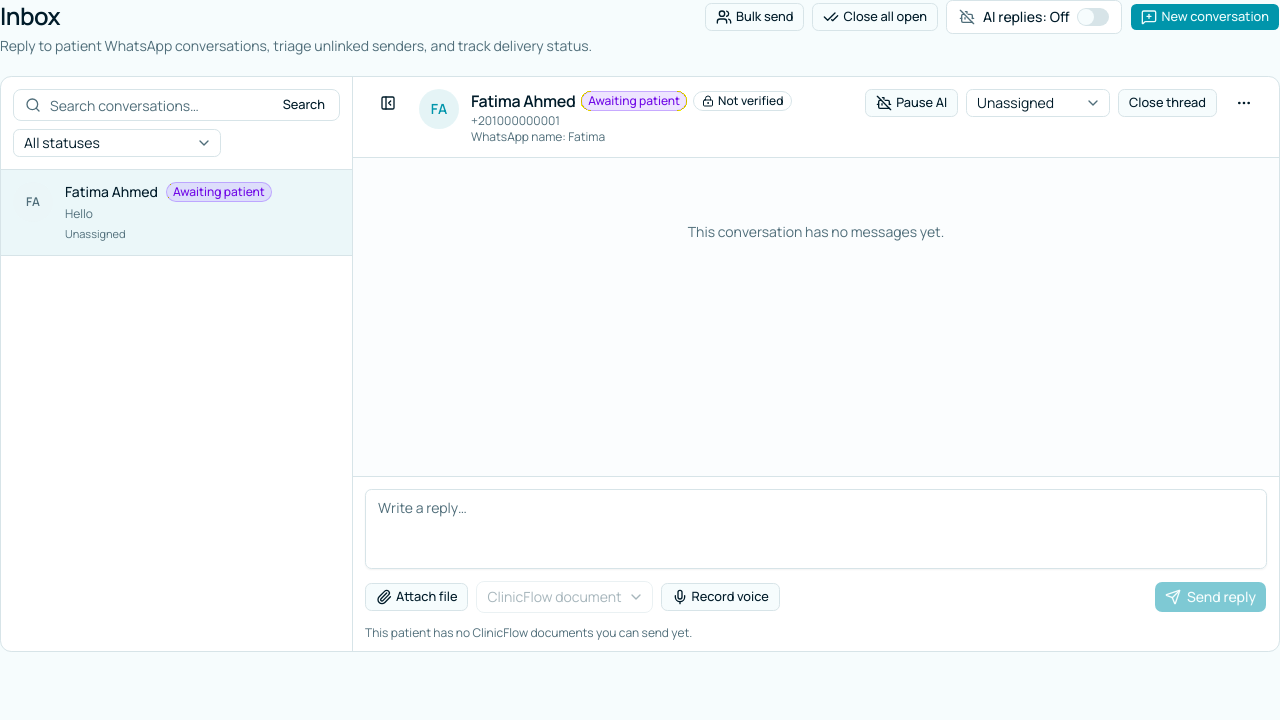
closing all open conversations › states a count well past one page, exactly as the server reports it
The image size is (1280, 720).
What coordinates should you click on to do the following:
click the button with test id "bulk-close-trigger"
I would click on:
 (875, 17)
Its box is [812, 3, 938, 31].
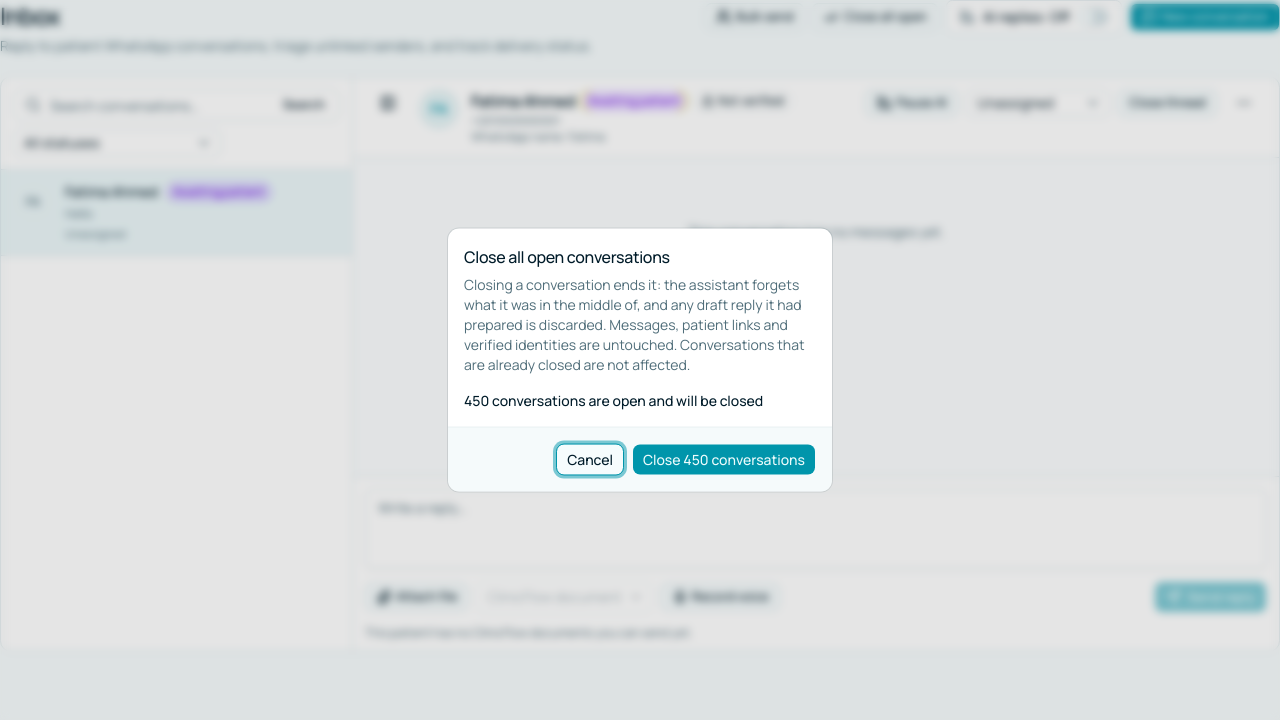
expect the text with test id "bulk-close-count" shows "450": met, box [464, 390, 763, 410]
expect the button with test id "bulk-close-confirm" shows "450": met, box [632, 444, 816, 476]
